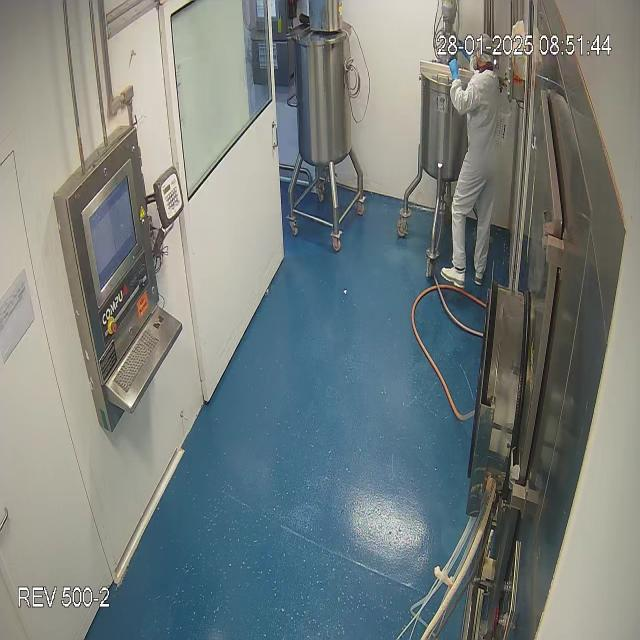bota: (440, 255, 490, 298)
touca: (440, 33, 499, 289), (464, 31, 498, 74)
